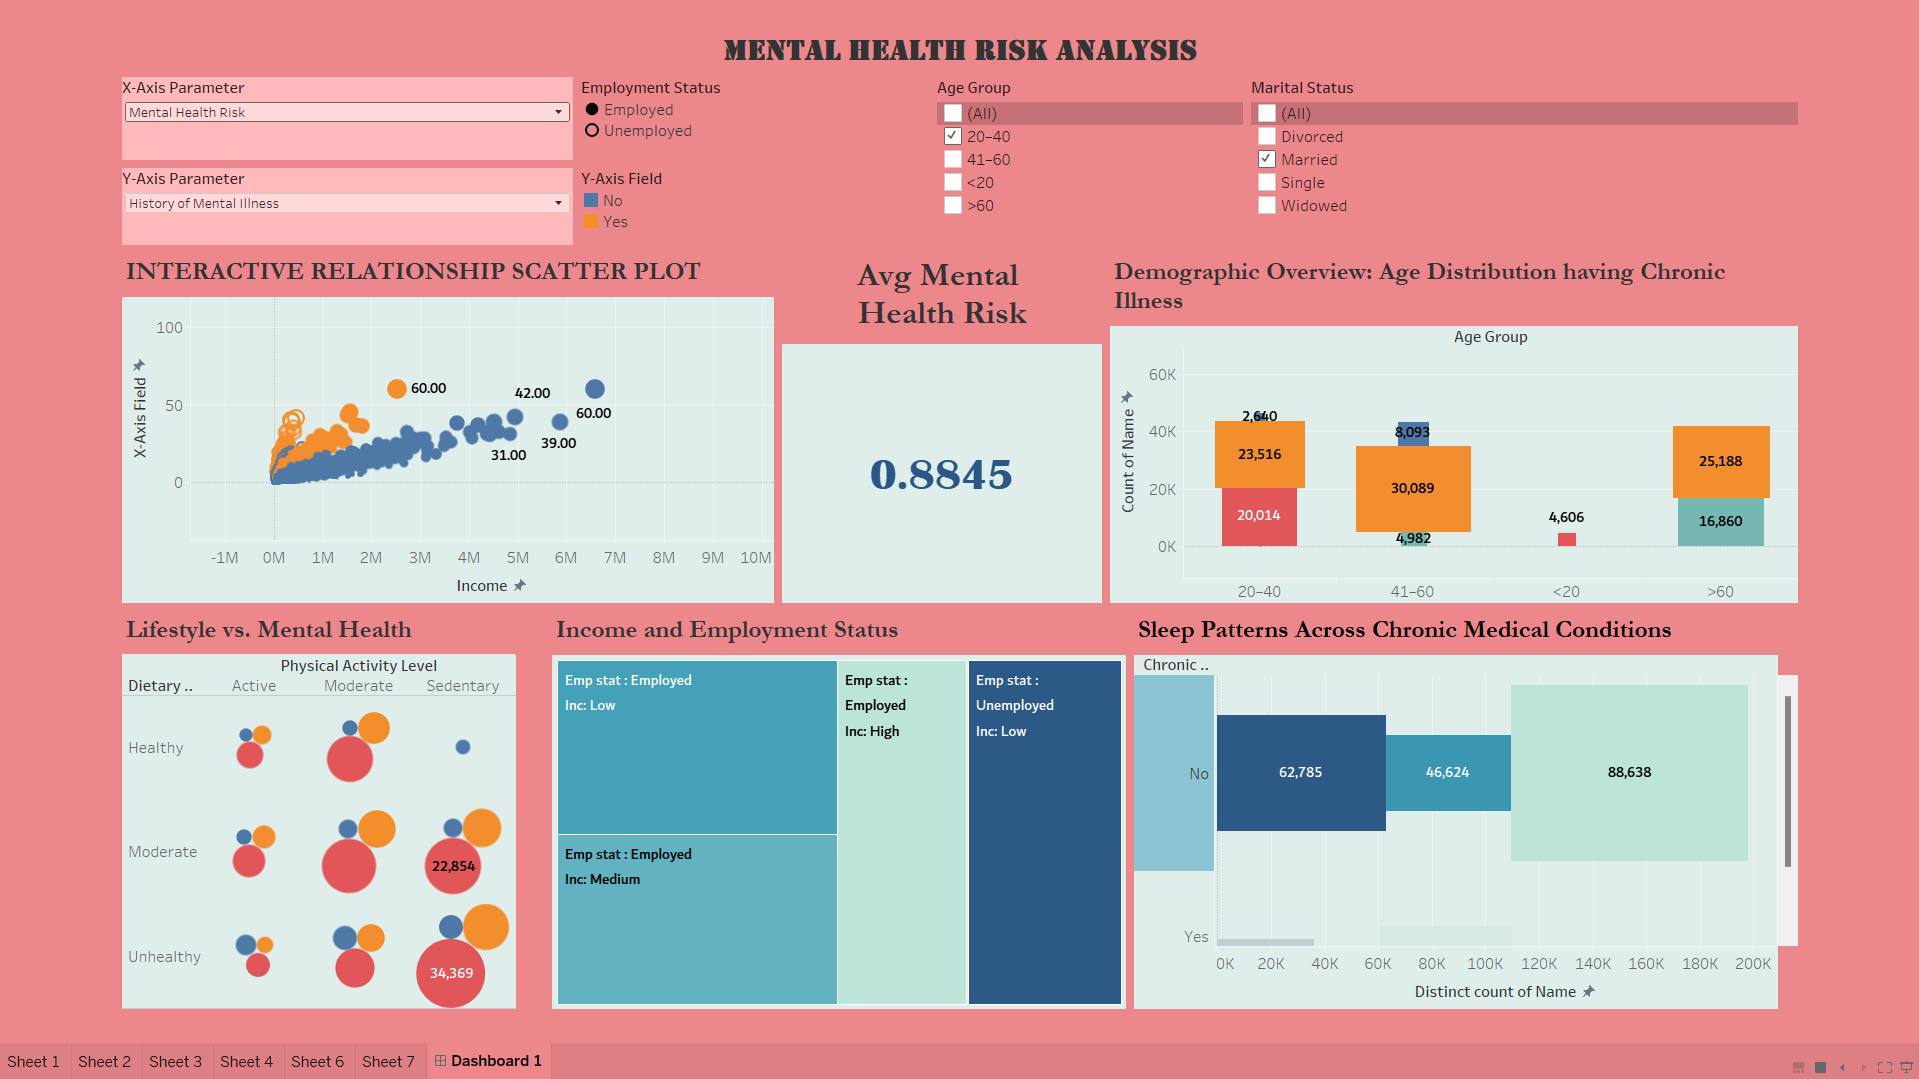

What the dashboard file says about the page in this screenshot:
{"tool":"tableau","page":{"name":"Dashboard 1","canvas":[1700,1000],"ordinal":0},"visuals":[{"type":"title","box":[8,8,1684,44]},{"type":"parameter","param":"[Parameters].[Parameter 1]","box":[8,52,458.5,91.1]},{"type":"legend","title":"Sheet 6","param":"[federated.0rwuok70prvchj1clt2n01lhuwbi].[none:Employment Status:nk]","box":[466.5,52,356,91.1]},{"type":"filter","title":"Sheet 3","param":"[federated.0rwuok70prvchj1clt2n01lhuwbi].[none:Calculation_1037516778941513729:n","box":[822.5,52,314.9,176.2]},{"type":"filter","title":"Sheet 2","param":"[federated.0rwuok70prvchj1clt2n01lhuwbi].[none:Marital Status:nk]","box":[1137.4,52,554.6,176.2]},{"type":"parameter","param":"[Parameters].[Parameter 2]","box":[8,143.1,458.5,85.1]},{"type":"legend","title":"Sheet 6","param":"[federated.0rwuok70prvchj1clt2n01lhuwbi].[none:Calculation_1037516778958573575:n","box":[466.5,143.1,356,85.1]},{"type":"worksheet","title":"Sheet 6","mark":"Automatic","rows":["Calculation_1037516778958127110"],"cols":["Income"],"box":[8,228.2,660,357.8]},{"type":"worksheet","title":"Sheet 7","mark":"Text","box":[668,228.2,328,357.8]},{"type":"worksheet","title":"Sheet 1","mark":"Automatic","rows":["Name"],"cols":["Calculation_1037516778941513729"],"box":[996,228.2,696,357.8]},{"type":"worksheet","title":"Sheet 2","mark":"Circle","rows":["Dietary Habits"],"cols":["Physical Activity Level"],"box":[8,586,430,406]},{"type":"worksheet","title":"Sheet 3","mark":"Automatic","box":[438,586,582,406]},{"type":"worksheet","title":"Sheet 4","mark":"Automatic","rows":["Chronic Medical Conditions"],"cols":["Name"],"box":[1020,586,672,406]}]}

Visuals, with their boxes on the page's 1700x1000 design canvas (x1, y1, x2, y2). These are canvas units, not pixel positions in the 1919x1079 screenshot, which may show the page scaled, cropped or inside an application window:
title: 8,8,1692,52
parameter: 8,52,466,143
"Sheet 6" legend: 466,52,822,143
"Sheet 3" filter: 822,52,1137,228
"Sheet 2" filter: 1137,52,1692,228
parameter: 8,143,466,228
"Sheet 6" legend: 466,143,822,228
"Sheet 6" worksheet: 8,228,668,586
"Sheet 7" worksheet (Text marks): 668,228,996,586
"Sheet 1" worksheet: 996,228,1692,586
"Sheet 2" worksheet (Circle marks): 8,586,438,992
"Sheet 3" worksheet: 438,586,1020,992
"Sheet 4" worksheet: 1020,586,1692,992
